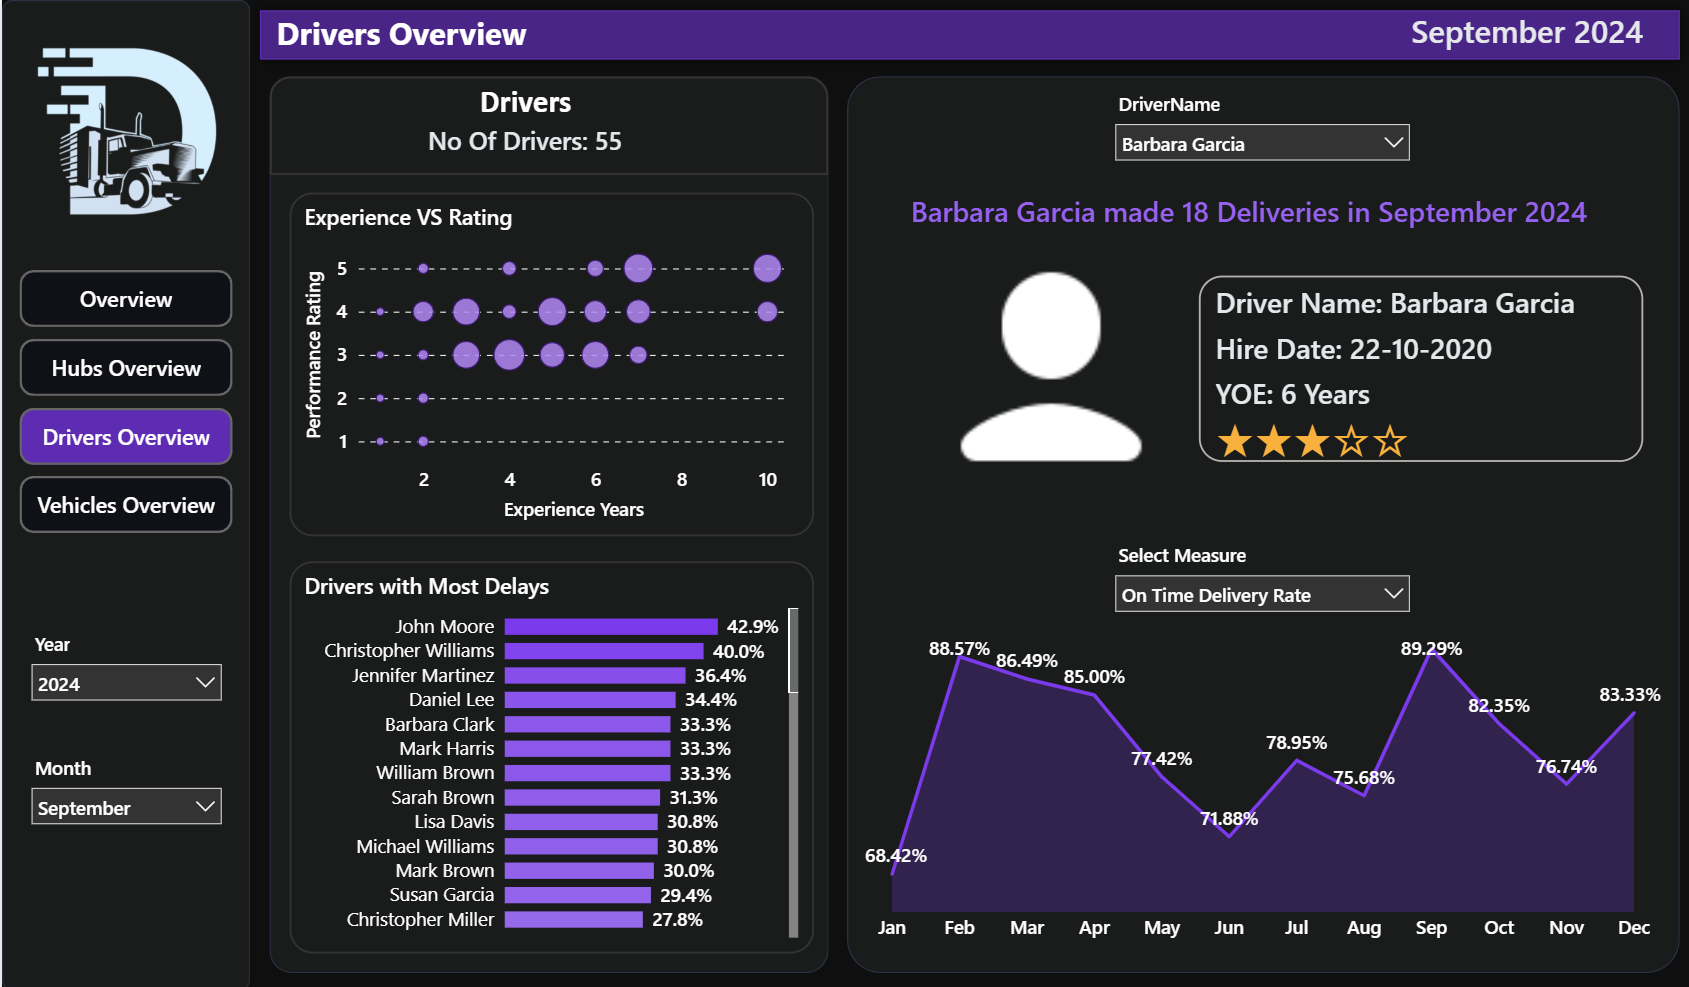

The page's visual inventory and layout, read from the dashboard file:
{"tool":"powerbi","page":{"name":"Drivers Overview","canvas":[1450,850],"ordinal":2},"visuals":[{"type":"shape","box":[212.9,0,1237.1,60],"z":0},{"type":"textbox","box":[230.3,5.8,275.2,47.8],"z":1000},{"type":"shape","box":[230,65,480,770],"z":2000},{"type":"shape","box":[230,65,480,85],"z":3000},{"type":"cardVisual","fields":{"Data":["Drivers.No of Drivers"]},"box":[333.2,95.6,233.2,47.8],"z":4000},{"type":"textbox","box":[394,65.2,111.5,43.5],"z":5000},{"type":"scatterChart","title":" Experience VS Rating","fields":{"X":["Drivers.Experience Years"],"Y":["Drivers.Performance Rating"],"Size":["Sum(Drivers.Experience Years)1"]},"box":[246.7,165,450,295],"z":6000},{"type":"barChart","title":"Drivers with Most Delays","fields":{"Category":["Drivers.DriverName"],"Y":["Orders.Delayed Delivery Rate"]},"box":[246.7,481.7,450,336.7],"z":7000},{"type":"cardVisual","fields":{"Data":["Orders.Year Month Title"]},"box":[1187.8,1.4,243.4,47.8],"z":8000},{"type":"shape","box":[725,65,715,770],"z":9000},{"type":"slicer","fields":{"Values":["Drivers.DriverName"]},"box":[945,73.3,273.3,70],"z":10000},{"type":"cardVisual","fields":{"Data":["Drivers.Drivers Title"]},"box":[751.7,143.3,660,73.3],"z":11000},{"type":"cardVisual","fields":{"Data":["Drivers.Driver name Title","Drivers.HireDate Title","Drivers.YOE","Drivers.Star Rating"]},"box":[1022.7,231.8,391.1,172.4],"z":12000},{"type":"areaChart","fields":{"Y":["Orders.On Time Delivery Rate"],"Category":["Date Table.Month Abr"]},"box":[736.7,536.7,693.3,281.7],"z":13000},{"type":"slicer","fields":{"Values":["Select Measure.Select Measure"]},"box":[945,460,273.3,76.7],"z":14000},{"type":"shape","box":[0,0,212.9,850.3],"z":15000},{"type":"slicer","fields":{"Values":["Date Table.Year"]},"box":[15,536.7,183.3,68.3],"z":16000},{"type":"slicer","fields":{"Values":["Date Table.Month"]},"box":[15,643.3,183.3,70],"z":17000},{"type":"pageNavigator","box":[15,231.7,183.3,228.3],"z":18000},{"type":"image","box":[15,13.3,188.3,211.7],"z":19000},{"type":"image","box":[795.2,210,211.5,215.8],"z":20000}]}

Visuals, with their boxes in screenshot pixels (x1, y1, x2, y2), scaled from the page's 1450x850 canvas onto the 1689x987 screenshot:
shape: box(248, 0, 1688, 70)
textbox: box(268, 7, 589, 62)
shape: box(268, 75, 827, 970)
shape: box(268, 75, 827, 174)
cardVisual - Drivers.No of Drivers: box(388, 111, 660, 167)
textbox: box(459, 76, 589, 126)
" Experience VS Rating" scatterChart: box(287, 192, 812, 534)
"Drivers with Most Delays" barChart: box(287, 559, 812, 950)
cardVisual - Orders.Year Month Title: box(1384, 2, 1667, 57)
shape: box(845, 75, 1677, 970)
slicer - Drivers.DriverName: box(1101, 85, 1419, 166)
cardVisual - Drivers.Drivers Title: box(876, 166, 1644, 252)
cardVisual - Drivers.Driver name Title x Drivers.HireDate Title: box(1191, 269, 1647, 469)
areaChart - Orders.On Time Delivery Rate x Date Table.Month Abr: box(858, 623, 1666, 950)
slicer - Select Measure.Select Measure: box(1101, 534, 1419, 623)
shape: box(0, 0, 248, 986)
slicer - Date Table.Year: box(17, 623, 231, 703)
slicer - Date Table.Month: box(17, 747, 231, 828)
pageNavigator: box(17, 269, 231, 534)
image: box(17, 15, 237, 261)
image: box(926, 244, 1173, 494)
